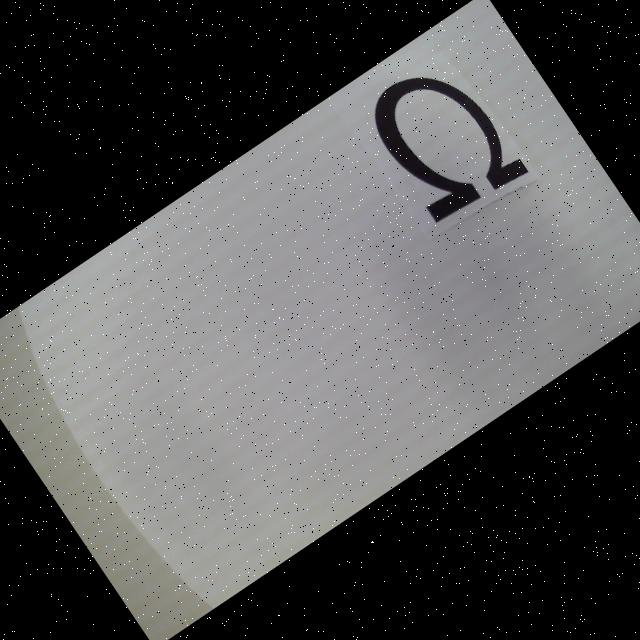OMEGA: (360, 48, 530, 230)
